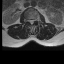CCS_normal: (30, 18, 32, 27)
LFS_normal: (34, 17, 36, 22)
LLS_normal: (32, 18, 34, 24)
RFS_normal: (27, 18, 28, 23)
RLS_normal: (28, 18, 30, 24)
